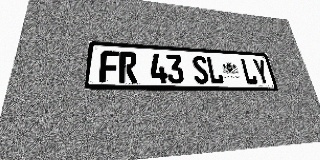3: (166, 54, 184, 84)
4: (150, 53, 168, 84)
F: (99, 50, 119, 83)
L: (206, 56, 224, 84), (240, 58, 258, 85)
R: (119, 51, 137, 83)
S: (191, 55, 210, 84)
Y: (252, 59, 271, 85)
